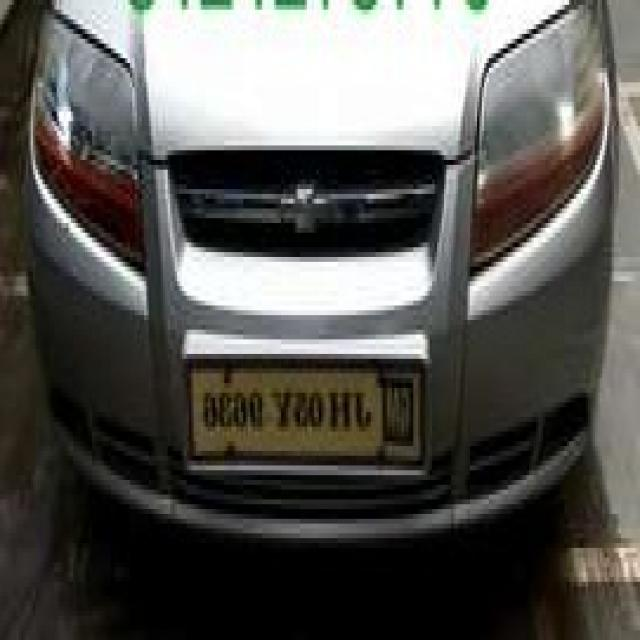license_plate: (185, 352, 428, 474)
